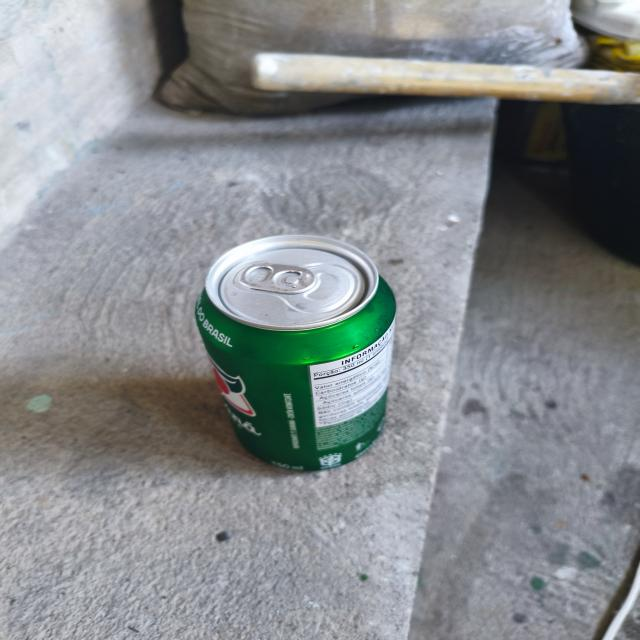Guarana: (150, 229, 469, 483)
